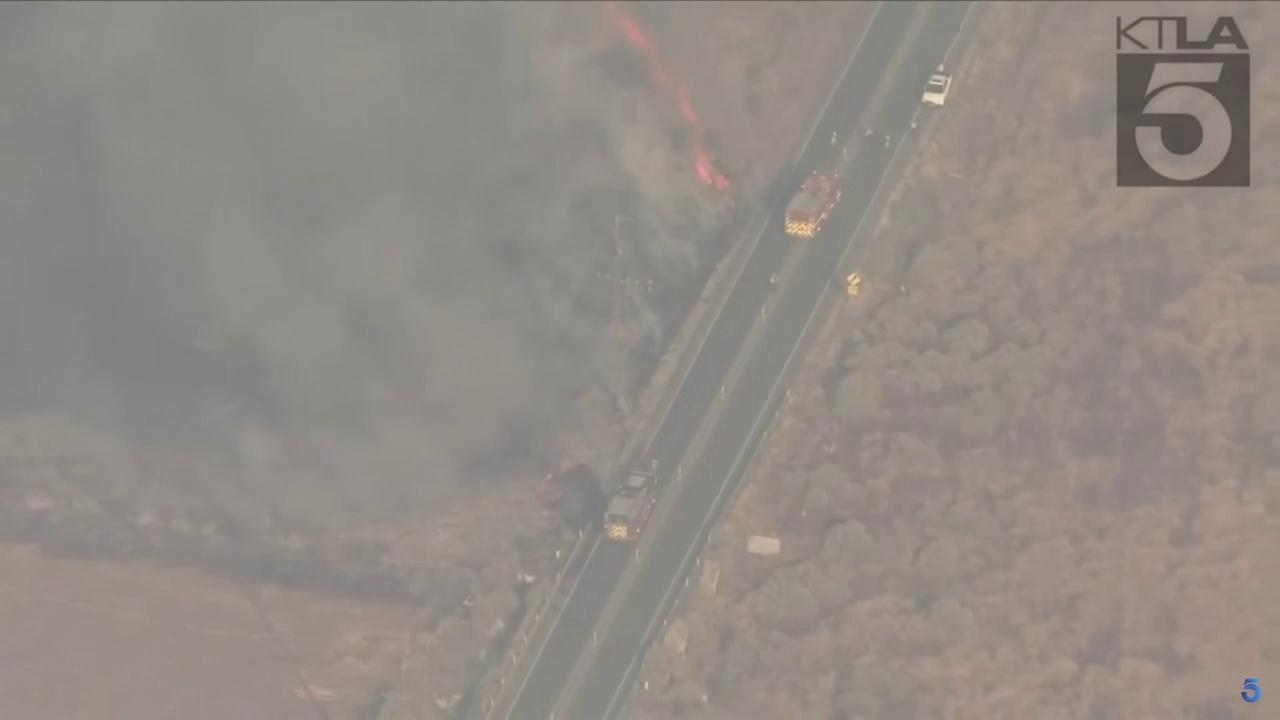fire: (691, 142, 733, 192), (675, 85, 701, 124), (620, 16, 646, 53)
smoke: (0, 0, 747, 515)
